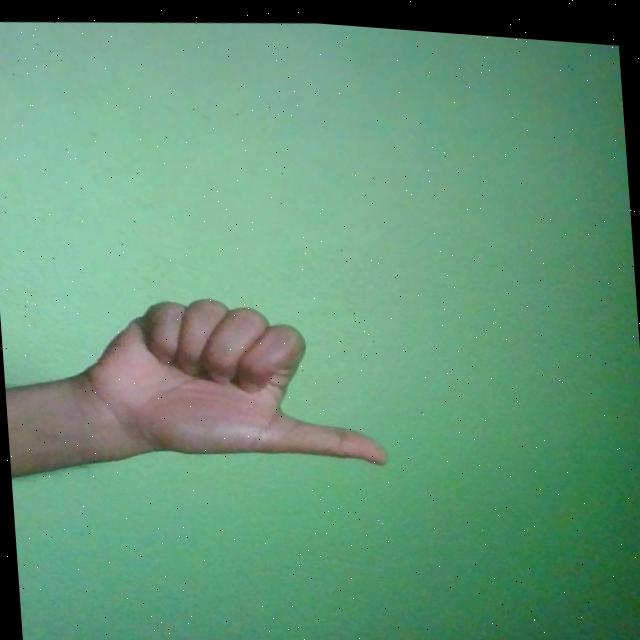Good Job: (74, 273, 388, 483)
